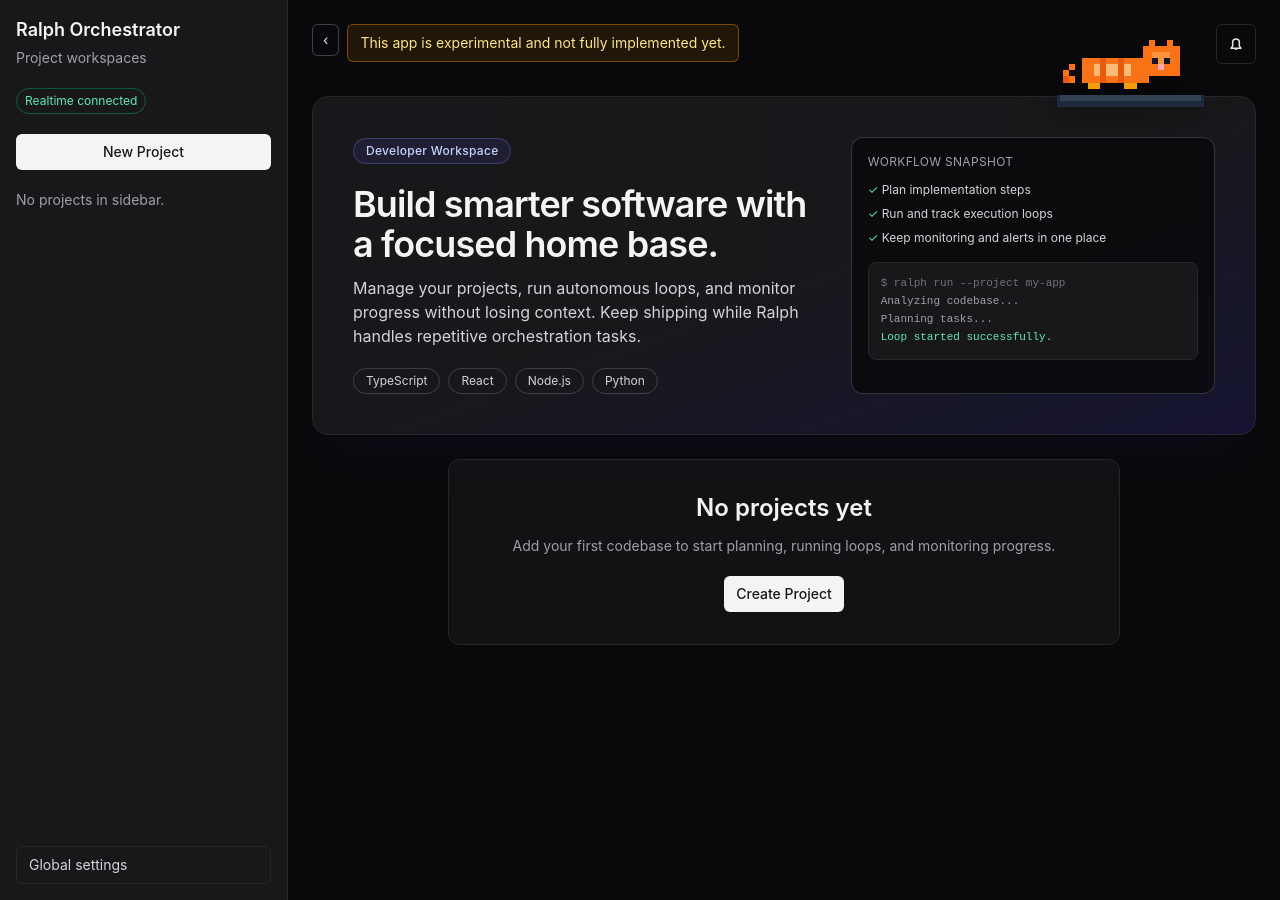
Test case: App › toggles the left sidebar visibility
This screenshot has width=1280, height=900.
Click the button named "Collapse sidebar" at (326, 40), box [312,24,339,56]
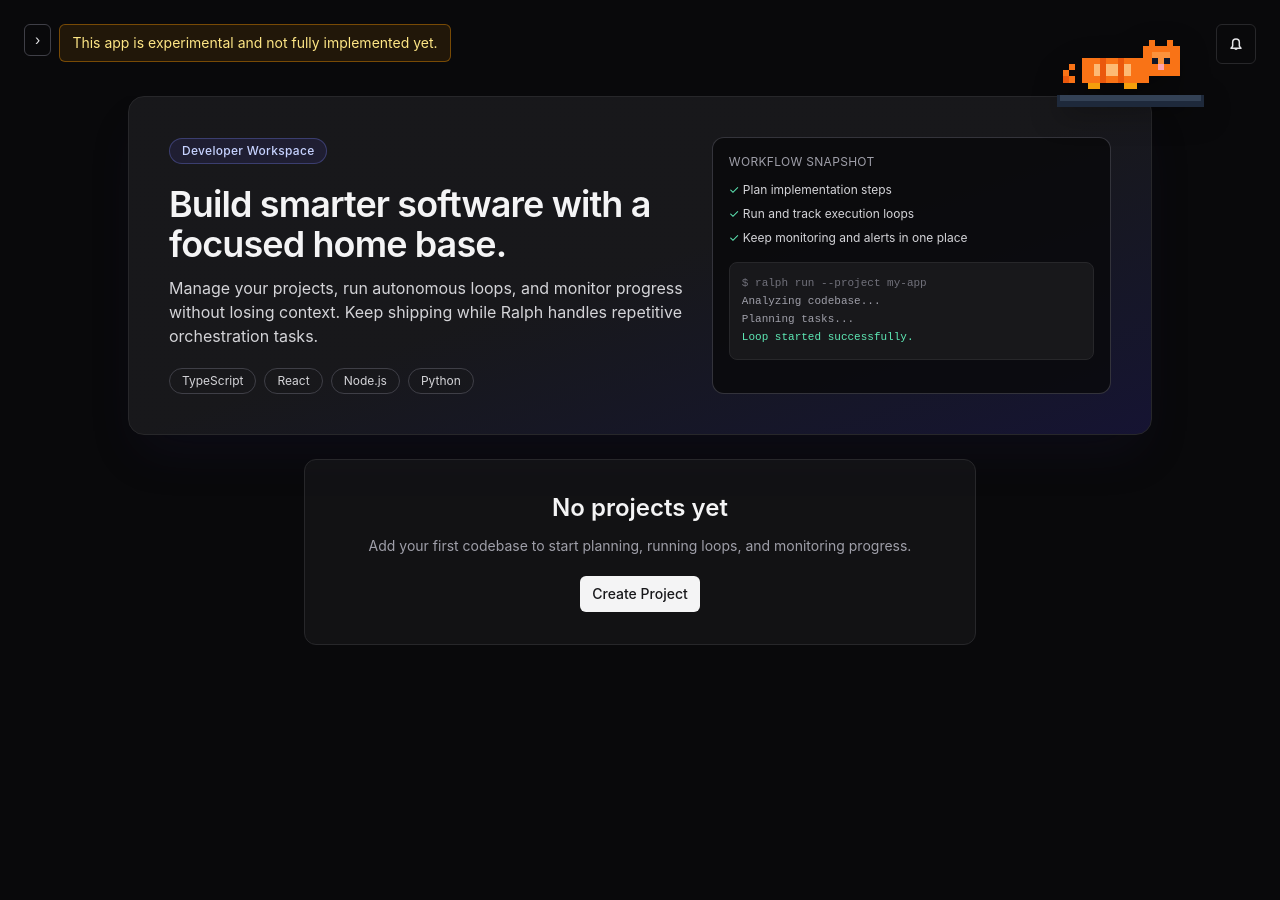
Expected: the button named "Expand sidebar" is shown
Click the button named "Expand sidebar" at (38, 40), box [24,24,51,56]
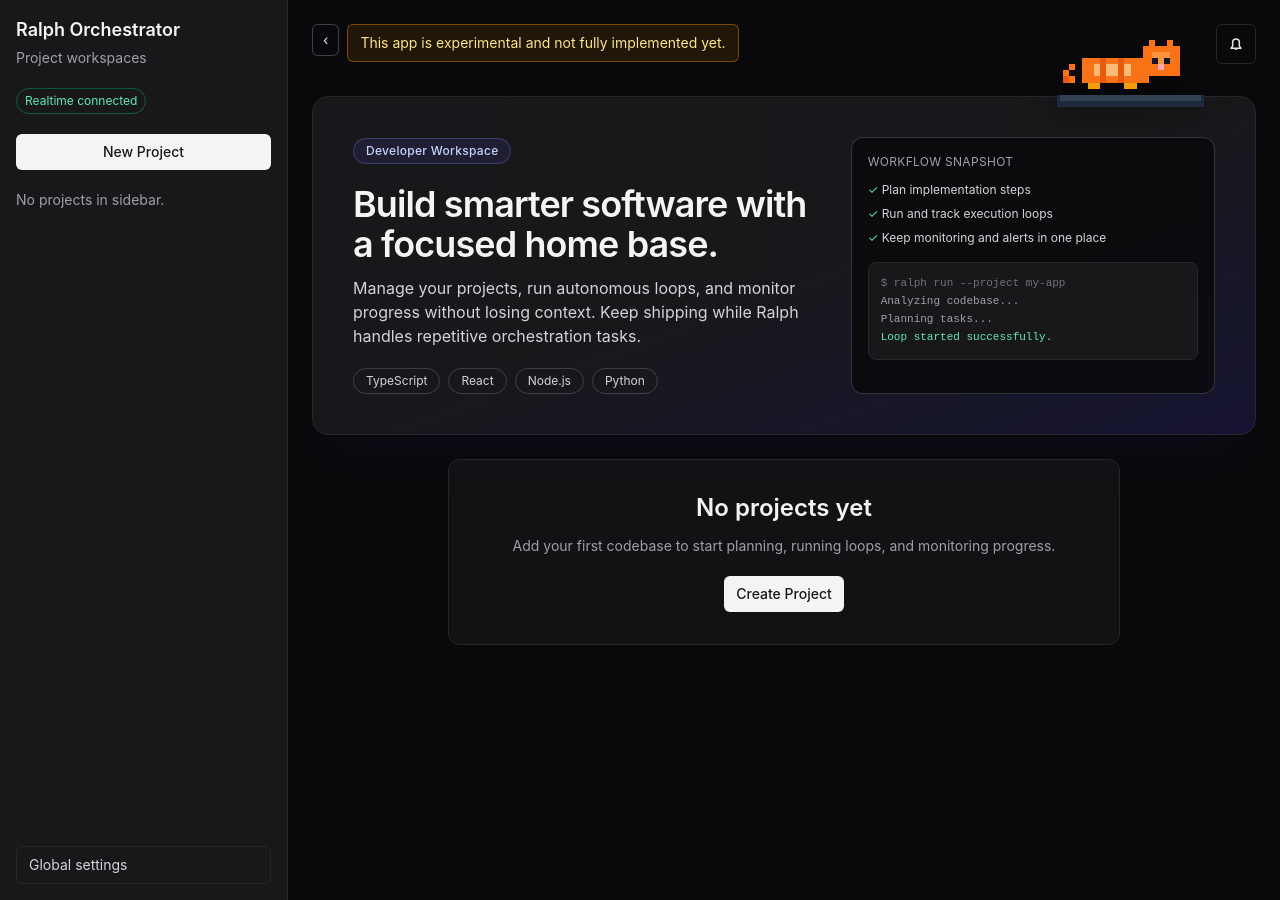
Expected: the button named "Collapse sidebar" is shown, [312,24,339,56]
